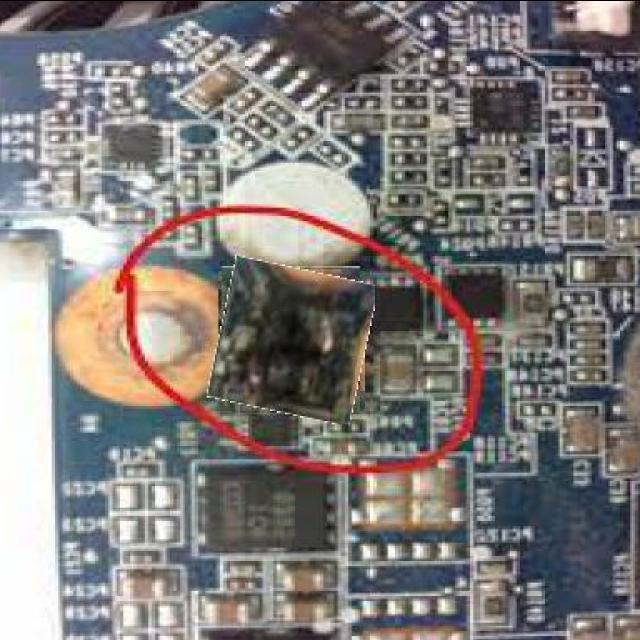Burn: (214, 262, 370, 418)
